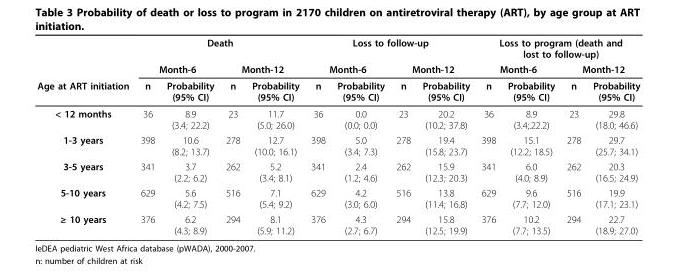table: (36, 36, 639, 235)
table column: (36, 36, 134, 235), (160, 36, 219, 235), (245, 36, 304, 235), (330, 36, 389, 235), (415, 36, 474, 235), (501, 36, 560, 235), (586, 36, 639, 235), (474, 36, 501, 235), (134, 36, 160, 235), (219, 36, 245, 235), (304, 36, 330, 235), (389, 36, 415, 235), (560, 36, 586, 235)
table column header: (36, 36, 639, 104)
table row: (36, 104, 639, 132), (36, 77, 639, 104), (36, 184, 639, 211), (36, 132, 639, 158), (36, 158, 639, 184), (36, 36, 639, 61), (36, 211, 639, 235), (36, 61, 639, 77)
table spanning cell: (36, 36, 134, 104), (134, 36, 304, 61), (304, 36, 474, 61), (474, 36, 639, 61), (474, 61, 560, 77), (134, 61, 219, 77), (219, 61, 304, 77), (304, 61, 389, 77), (389, 61, 474, 77), (560, 61, 639, 77)
